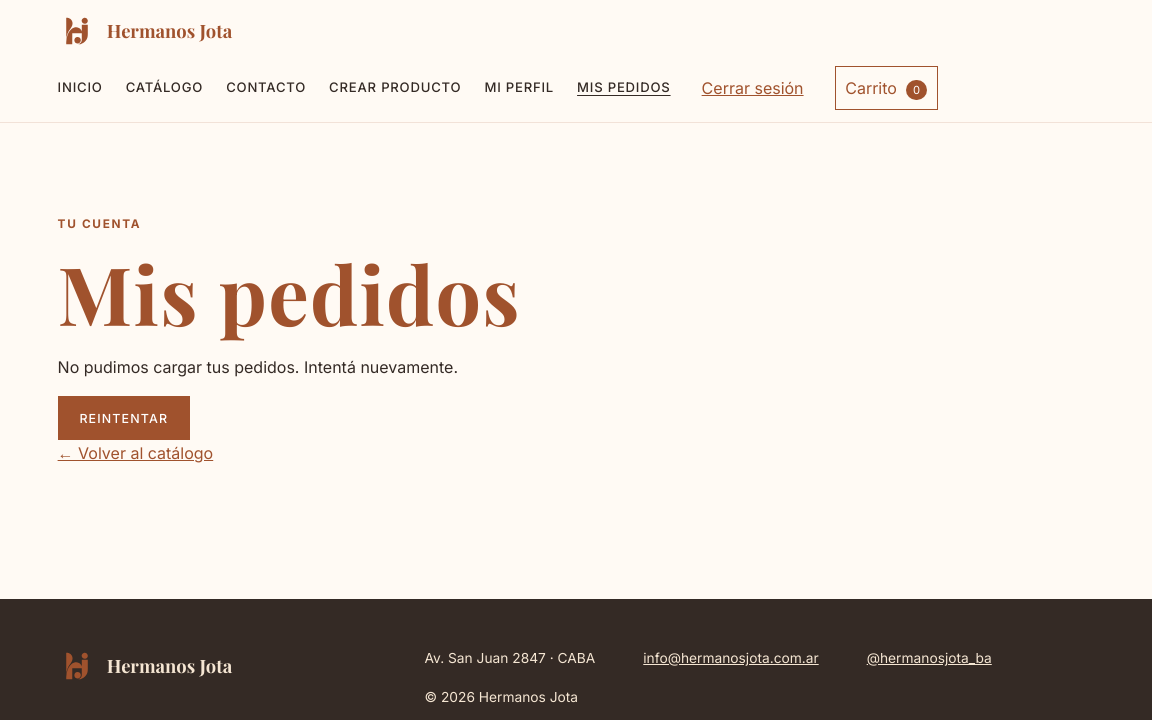
Test: reintenta historial y muestra estado vacío
Expected: the message "No pudimos cargar tus pedidos. Intentá nuevamente. Reintentar" is shown, top-left (58, 357), bottom-right (458, 440)
Click the button "Reintentar". click: (124, 418)
box: top-left (58, 396), bottom-right (190, 440)
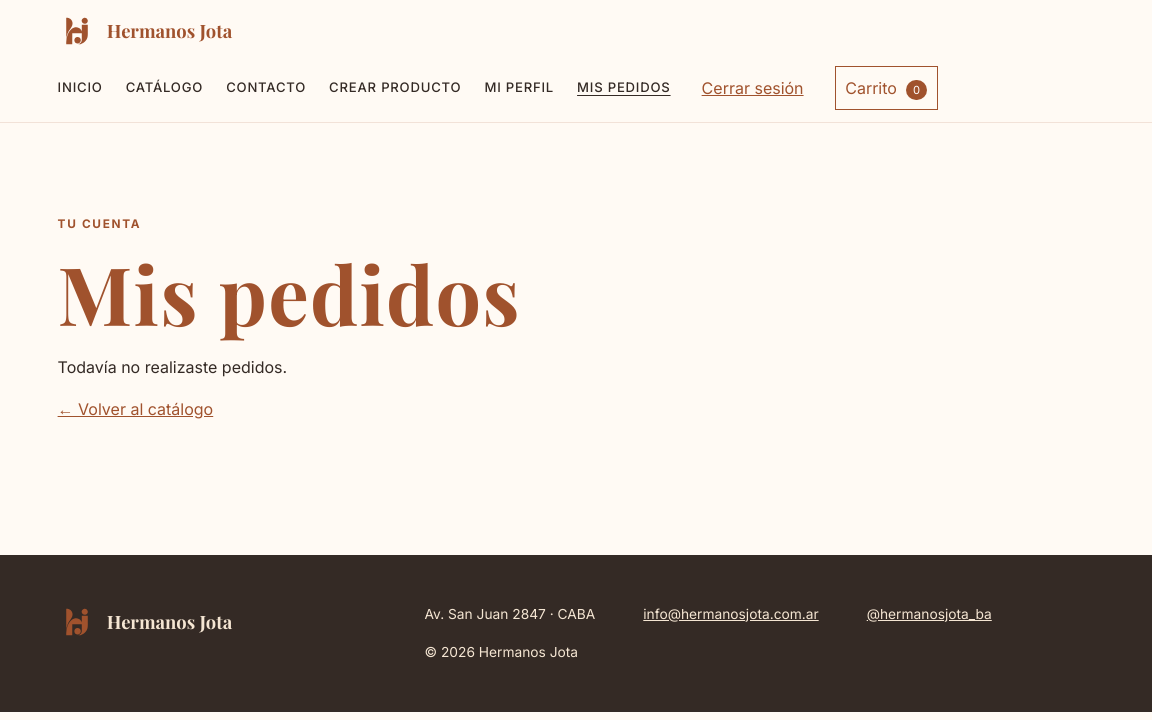
Expected: the text "Todavía no realizaste pedidos." is shown, top-left (58, 357), bottom-right (287, 377)
